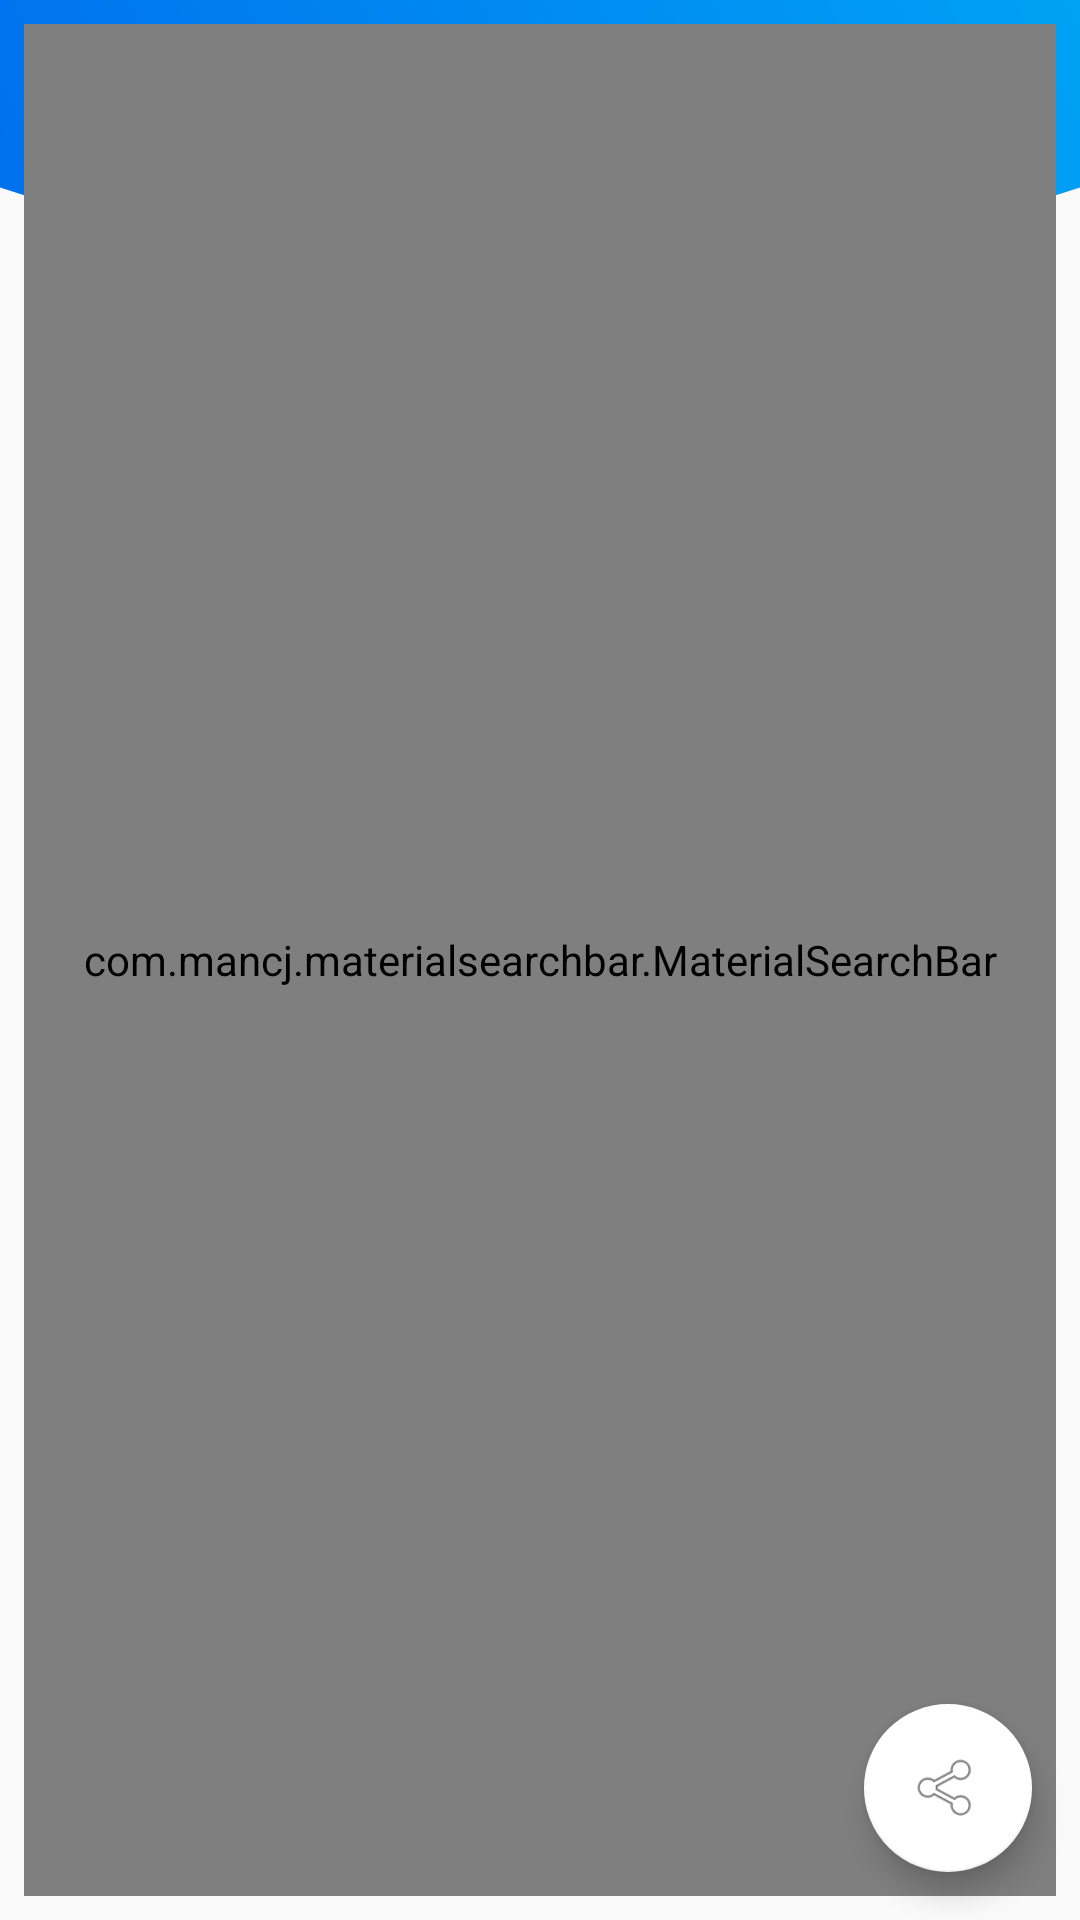

Where to tap for icons on this 1080×1920 app screen, as point (x, y):
share: point (948, 1788)
